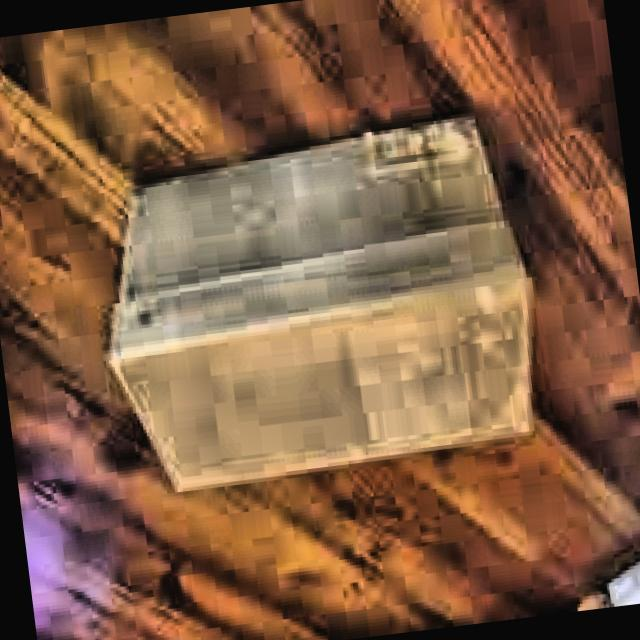cardboard: (78, 107, 556, 506)
